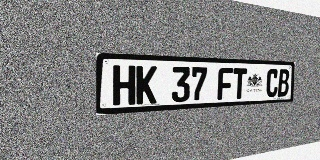3: (172, 67, 190, 102)
7: (190, 67, 207, 101)
B: (277, 69, 290, 97)
C: (266, 69, 279, 97)
F: (217, 68, 233, 100)
H: (113, 65, 135, 106)
K: (136, 66, 157, 104)
T: (232, 68, 247, 99)
